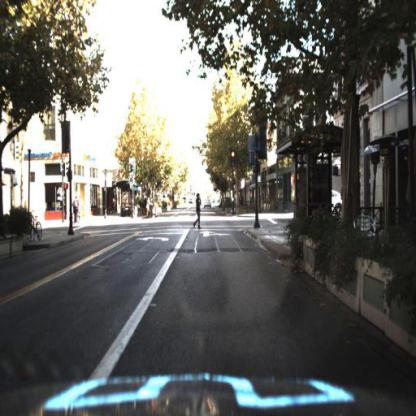car: (322, 178, 349, 224)
pedestrian: (192, 189, 206, 232), (142, 190, 161, 221), (79, 189, 88, 231), (73, 190, 79, 230)
trafficLight-Red: (227, 146, 237, 173)
